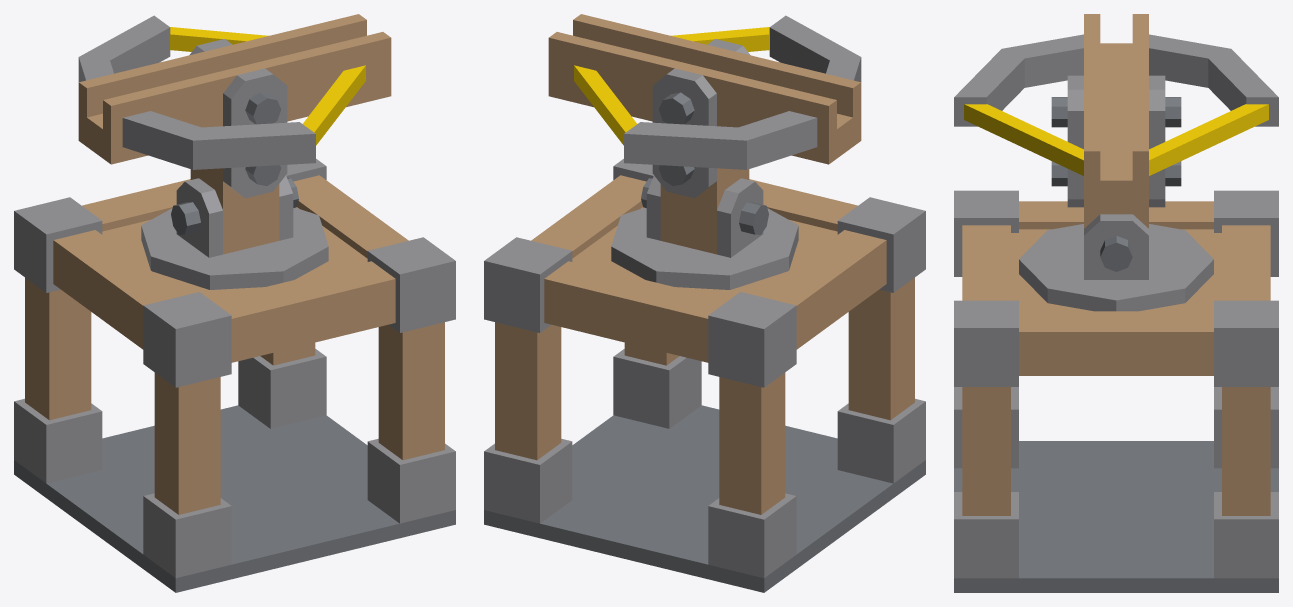
Rendered from tower-ballista.glb.
3 views of the same model, side by side, from view 1: azimuth 30°, elevation 25°; view 2: azimuth 150°, elevation 25°; view 3: azimuth 270°, elevation 25° (orthographic).
Parts seen in each view (by area): view 1: Cube.006, Cube.005, Cube.012, Cube.008, Cube.002, Cube.011, Bow Front, Cylinder.002, Cube.004, Cube.007, Bow String, Cube.010 (+3 smaller); view 2: Cube.006, Cube.005, Cube.012, Cube.008, Cube.002, Cube.011, Bow Front, Cylinder.002, Cube.004, Cube.007, Bow String, Cube.010 (+3 smaller); view 3: Cube.006, Cube.012, Cube.011, Cube.005, Cube.002, Cube.008, Bow Front, Cylinder.002, Bow String, Cube.001, Cube.007, Cube.010 (+3 smaller).
Boxes of the visible parts, x1,y1,x2,y2 form: Cube.006: (14, 405, 455, 592); Cube.005: (25, 277, 444, 514); Cube.012: (53, 175, 408, 362); Cube.008: (14, 349, 455, 578); Cube.002: (78, 14, 391, 164); Cube.011: (14, 159, 455, 387); Bow Front: (78, 15, 315, 169); Cylinder.002: (141, 207, 328, 289); Cube.004: (190, 168, 279, 254); Cube.007: (189, 39, 287, 198); Bow String: (170, 27, 365, 145); Cube.010: (176, 175, 293, 257); Cube.006: (484, 405, 925, 592); Cube.005: (495, 277, 914, 514); Cube.012: (531, 175, 886, 362); Cube.008: (484, 349, 925, 578); Cube.002: (548, 14, 861, 164); Cube.011: (484, 159, 925, 387); Bow Front: (624, 15, 861, 169); Cylinder.002: (611, 207, 798, 289); Cube.004: (660, 168, 749, 254); Cube.007: (652, 39, 750, 198); Bow String: (574, 27, 769, 145); Cube.010: (646, 175, 763, 257); Cube.006: (954, 441, 1278, 592); Cube.012: (962, 201, 1270, 375); Cube.011: (954, 190, 1278, 386); Cube.005: (962, 387, 1270, 515); Cube.002: (1084, 14, 1148, 210); Cube.008: (954, 387, 1278, 578); Bow Front: (954, 34, 1278, 126); Cylinder.002: (1019, 224, 1213, 311); Bow String: (964, 104, 1268, 175); Cube.001: (1011, 229, 1221, 311); Cube.007: (1067, 75, 1165, 207); Cube.010: (1084, 214, 1148, 279).
Bounding box in the file's own units: 2 × 3 × 2.
